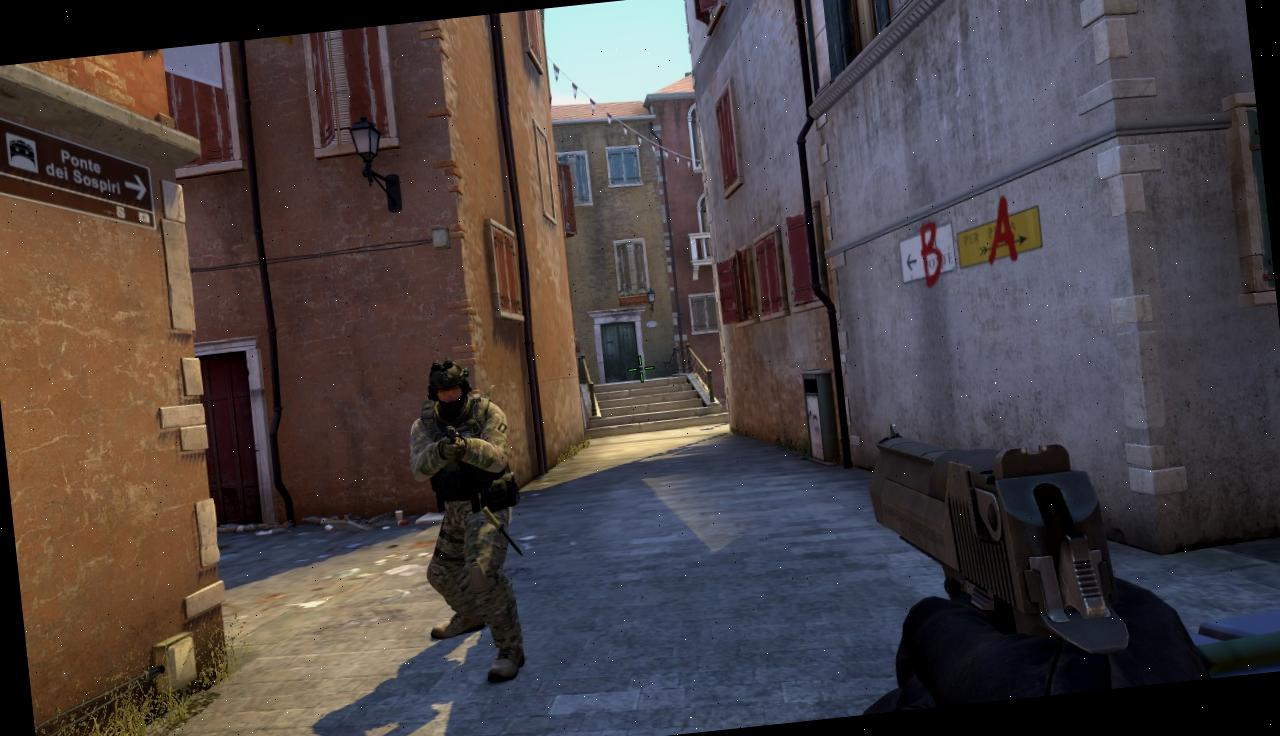ct: (406, 354, 532, 684)
cthead: (426, 358, 474, 415)
pistol: (859, 392, 1194, 712)
